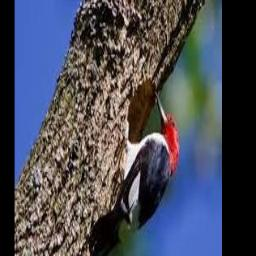Woodpecker: (89, 92, 179, 256)
